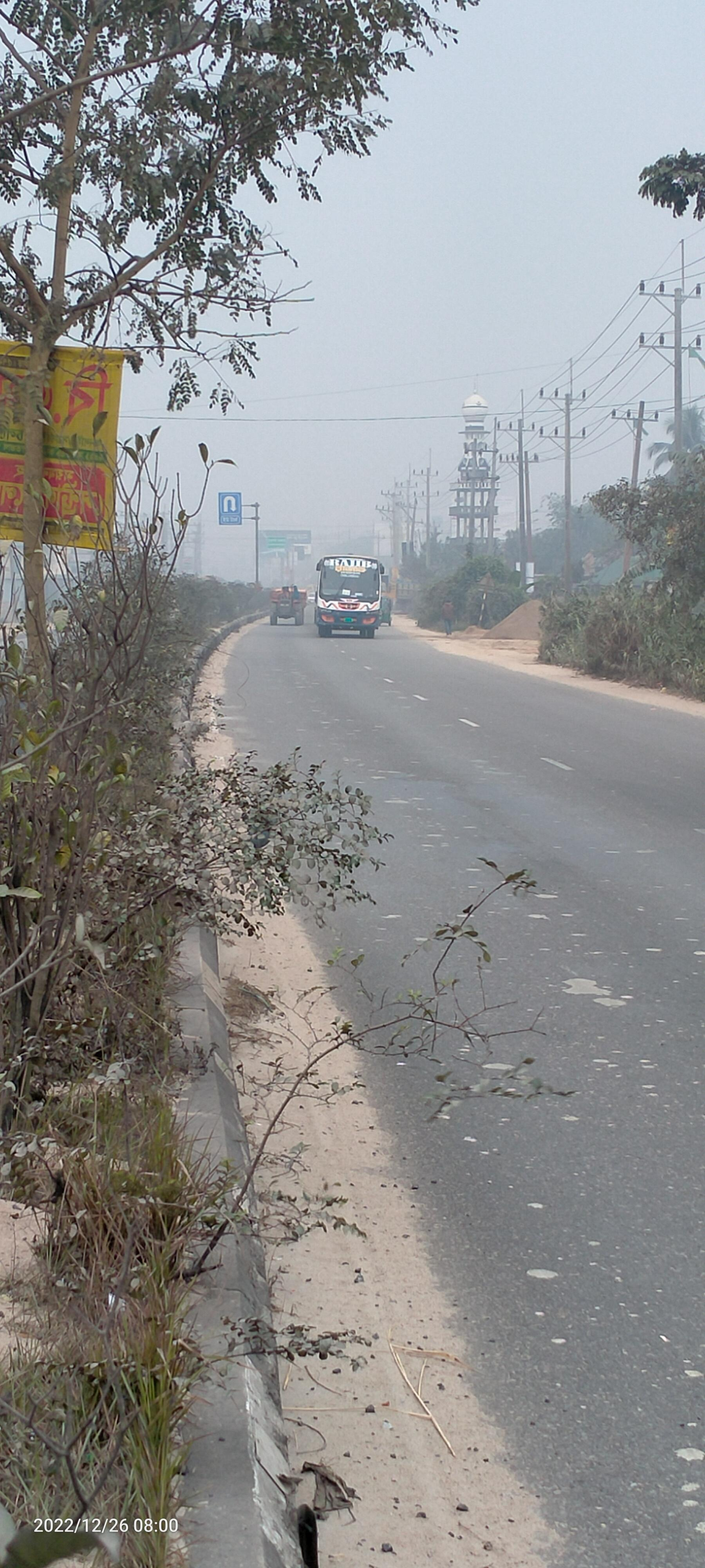Bus: (314, 550, 381, 639)
Truck: (263, 587, 307, 625)
